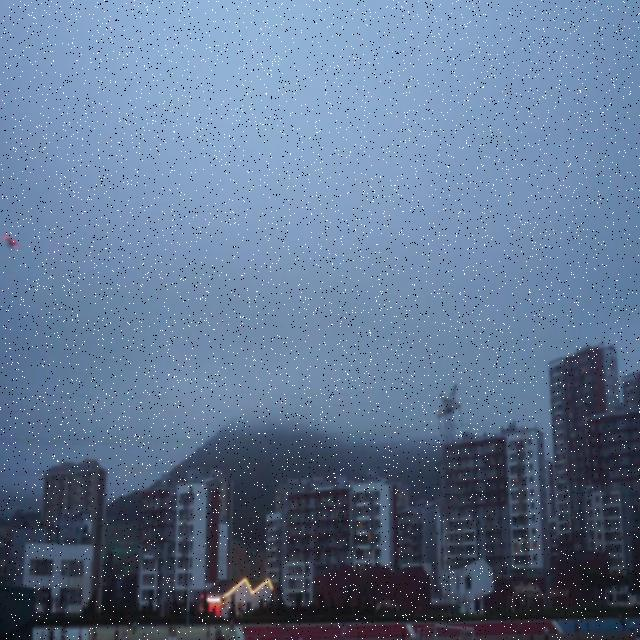UAV: (2, 235, 19, 248)
